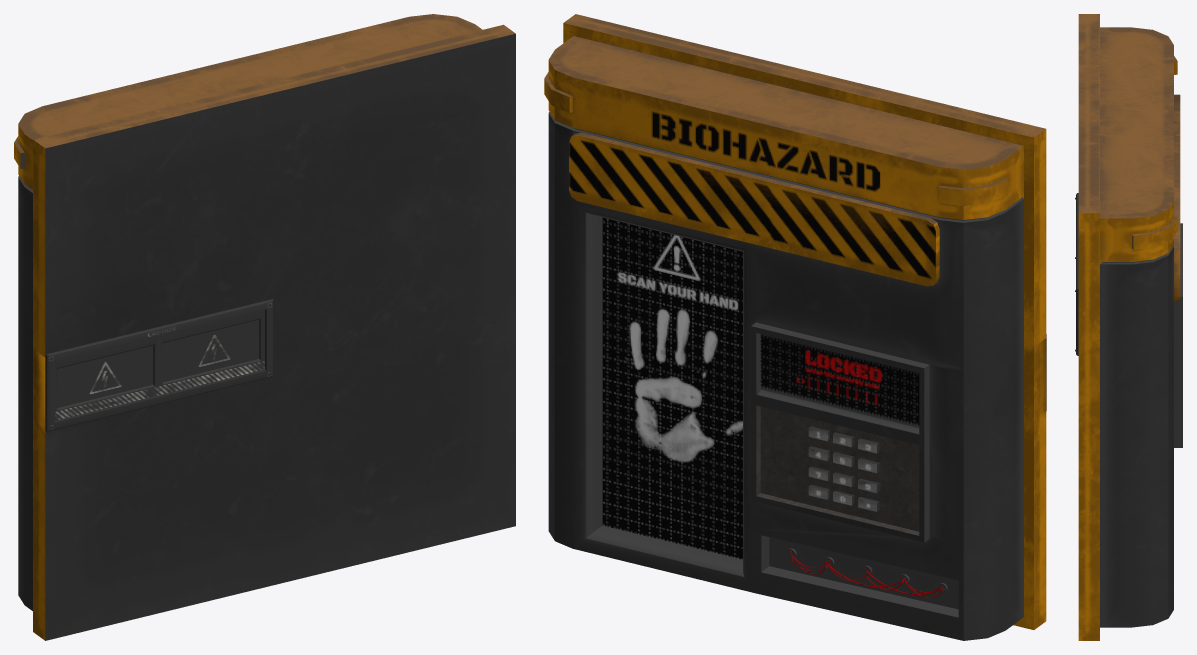
The model's file is Hand_scaner.obj.
The picture shows the model from 3 angles, left to right: view 1: azimuth 30°, elevation 25°; view 2: azimuth 150°, elevation 25°; view 3: azimuth 270°, elevation 25°; orthographic projection. The views are drawn at different scales.
Visible parts, largest first — view 1: door_panel, Hand_scaner_back; view 2: door_panel; view 3: door_panel, Hand_scaner_back.
Boxes of the visible parts, x1,y1,x2,y2 form: door_panel: (14,14,515,640); Hand_scaner_back: (45,299,273,431); door_panel: (544,14,1046,640); door_panel: (1078,14,1182,640); Hand_scaner_back: (1075,193,1078,355).
Bounding box in the file's own units: 0.2513 × 0.2513 × 0.0574.
Materials: 2 (2 with a texture image).
